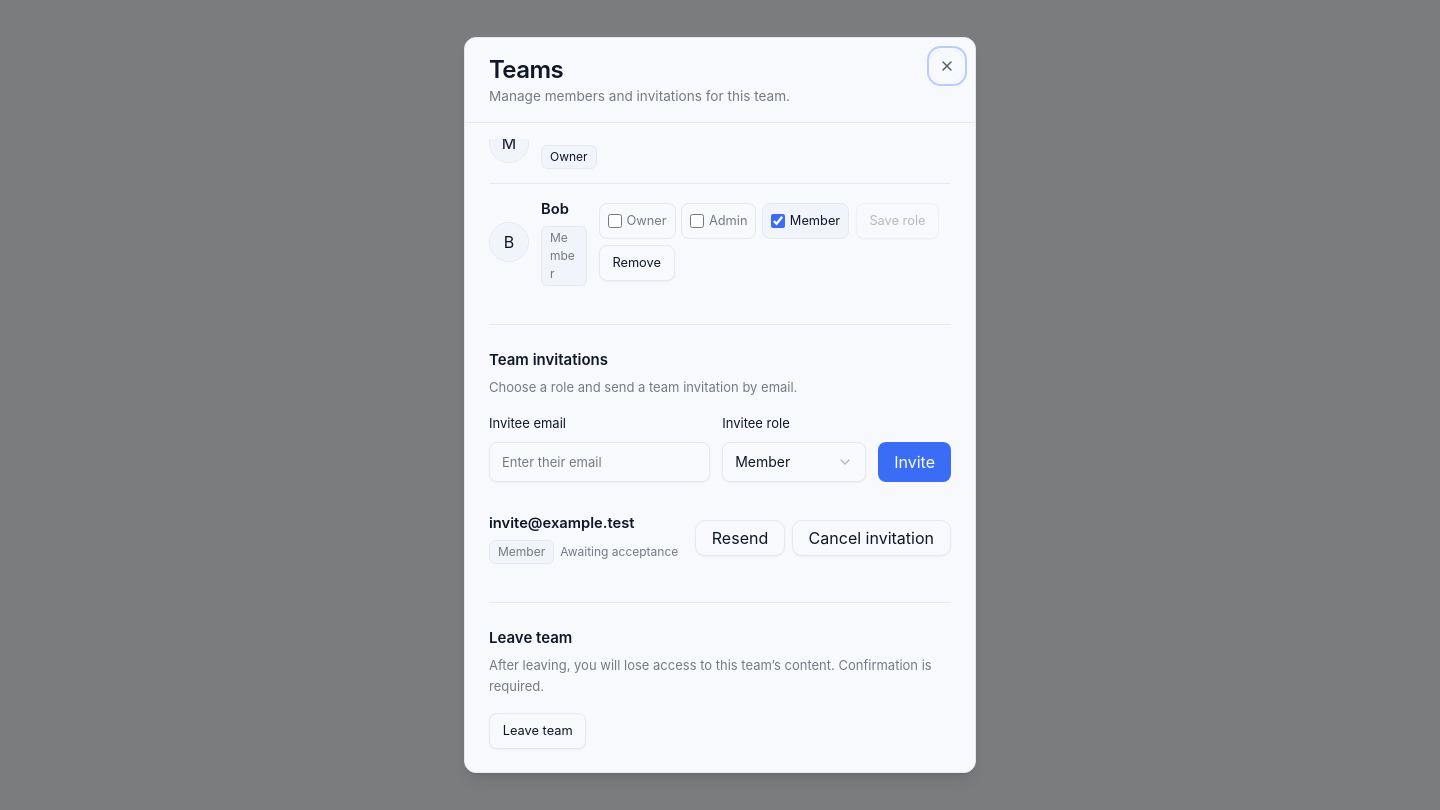
it: Team localized presentation and explicit actions › explains leaving and cancels its confirmation without submitting
(page scrolled)
Click the button with test id "team-leave" at (538, 731), box [489,713,586,749]
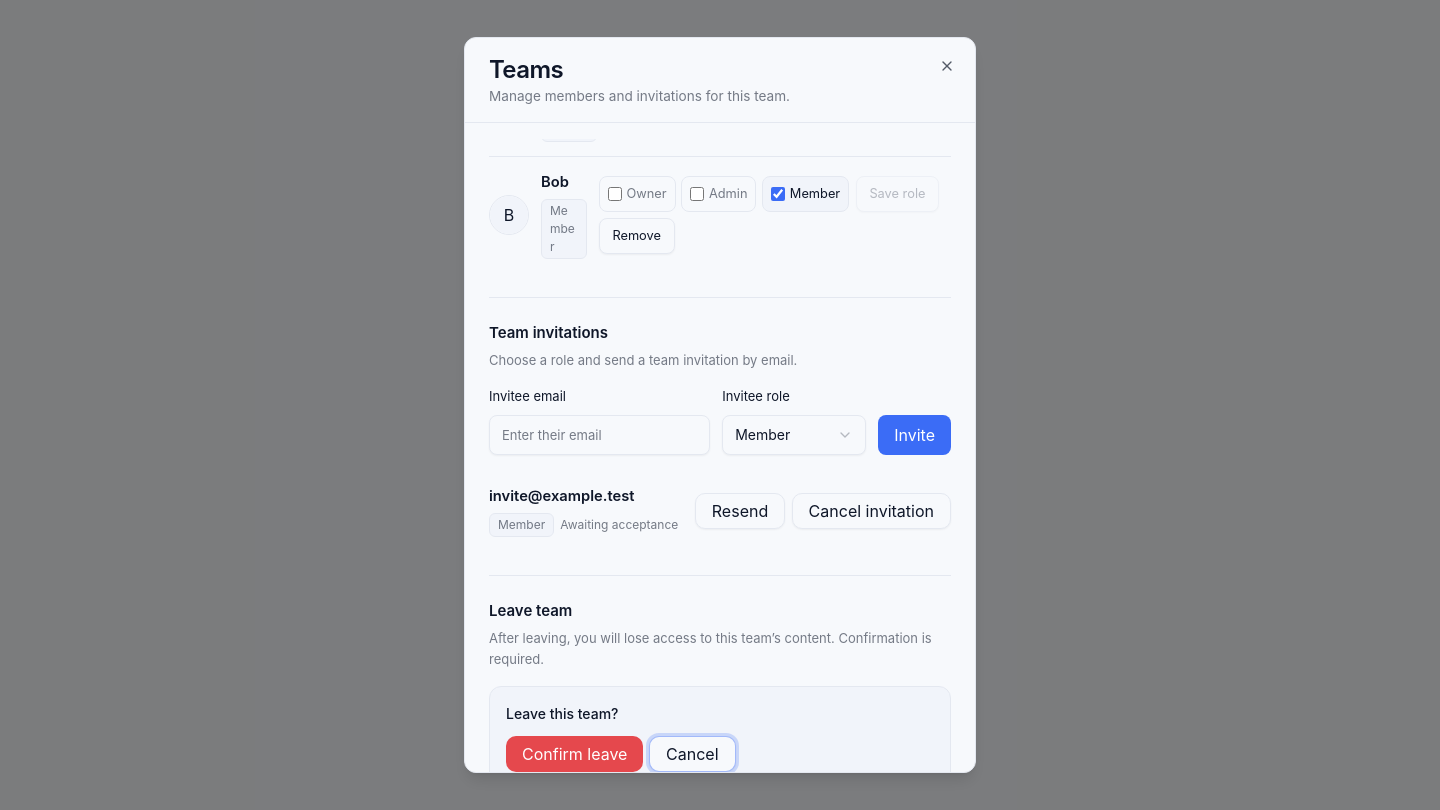
Check: the button with test id "team-leave-confirm" is enabled, box [506,736,643,772]
Click the button "Cancel" at (692, 754), box [649,736,736,772]
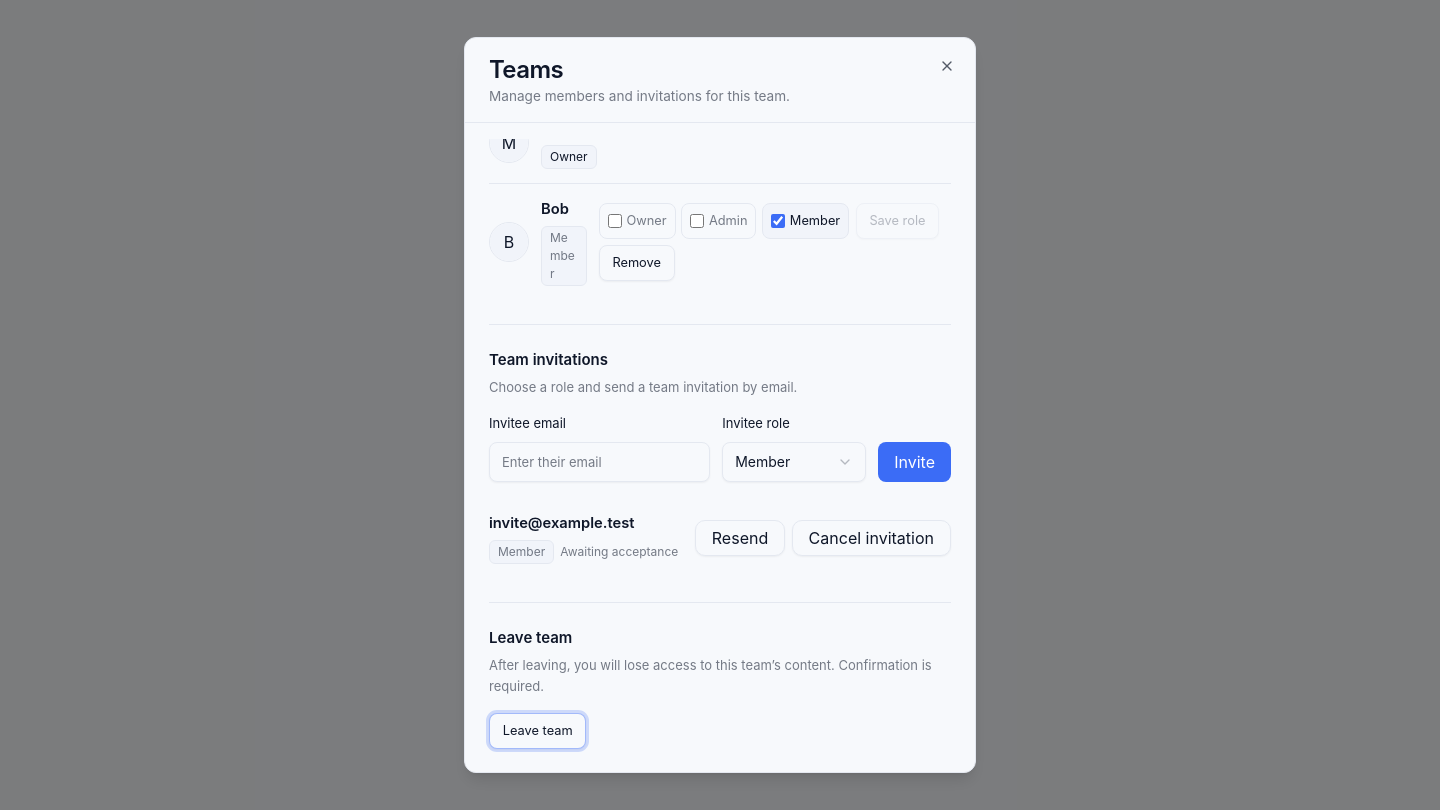
Check: the button with test id "team-leave-confirm" is gone
Check: the button with test id "team-leave" is enabled, box [489,713,586,749]
